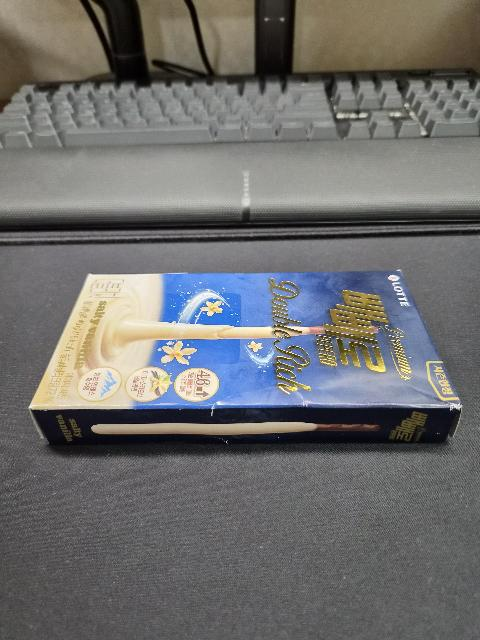pepero: (29, 270, 463, 445)
